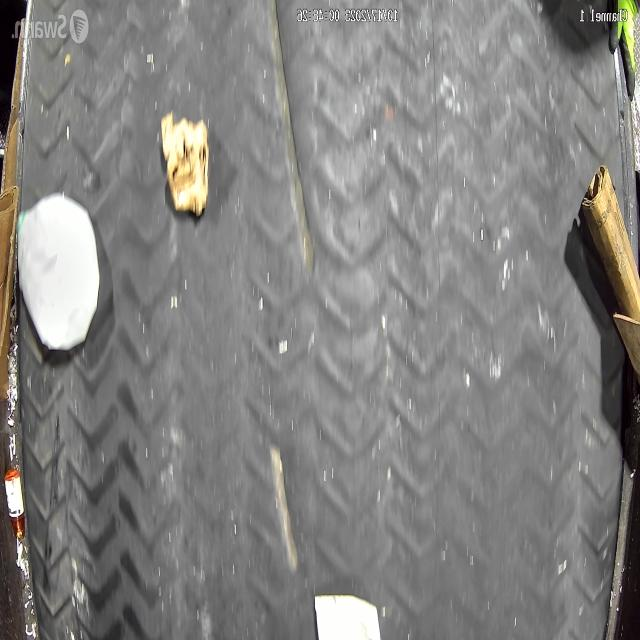milk_jug: (18, 191, 101, 354)
